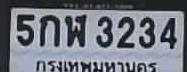2: (116, 16, 134, 47)
3: (95, 15, 112, 47), (138, 16, 154, 47)
4: (159, 17, 176, 48)
5: (16, 13, 34, 45)
A01: (39, 14, 59, 46)
A42: (64, 13, 86, 46)
BKK: (32, 57, 160, 72)
